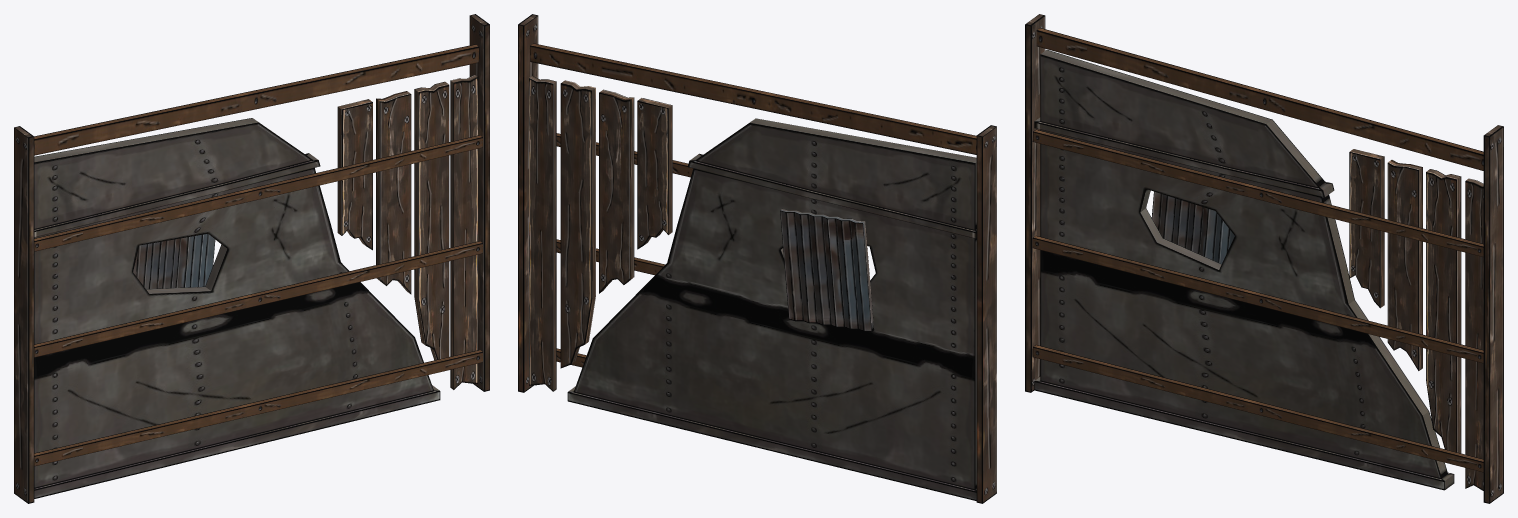
File: wall_02.fbx
3 views of the same model, side by side, from view 1: azimuth 30°, elevation 25°; view 2: azimuth 150°, elevation 25°; view 3: azimuth 330°, elevation 25° (orthographic).
Visible parts, largest first — view 1: Junk_Wall_02; view 2: Junk_Wall_02; view 3: Junk_Wall_02.
Part boxes in pixels (<box>): Junk_Wall_02: <box>14,14,489,503</box>; Junk_Wall_02: <box>518,14,996,503</box>; Junk_Wall_02: <box>1025,14,1503,503</box>.
Size of the model in its own units: 489 by 370 by 27.82.
Materials: 1 (1 with a texture image).
